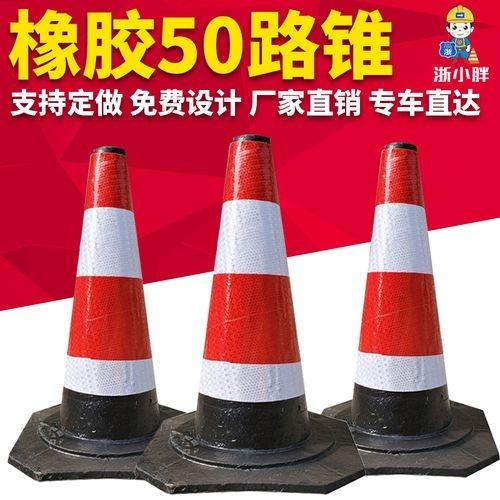cone_barrel: (178, 137, 320, 471), (37, 146, 172, 464), (331, 147, 466, 451)
